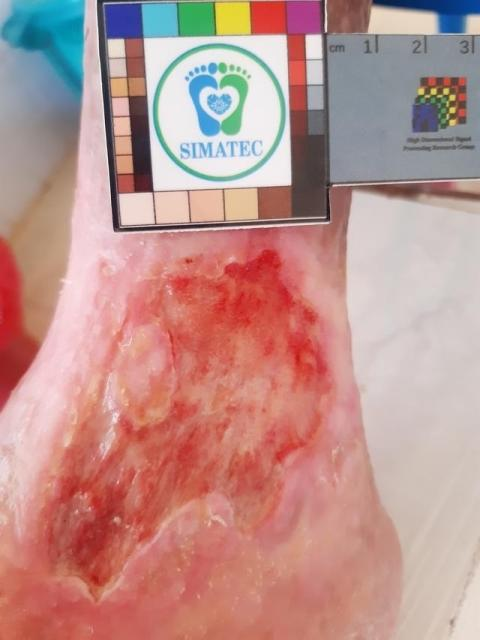wound: (34, 249, 333, 595)
